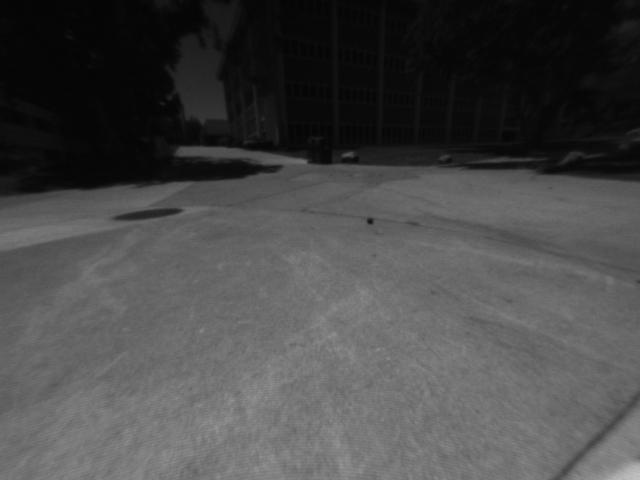dogtoy: (362, 210, 380, 229)
